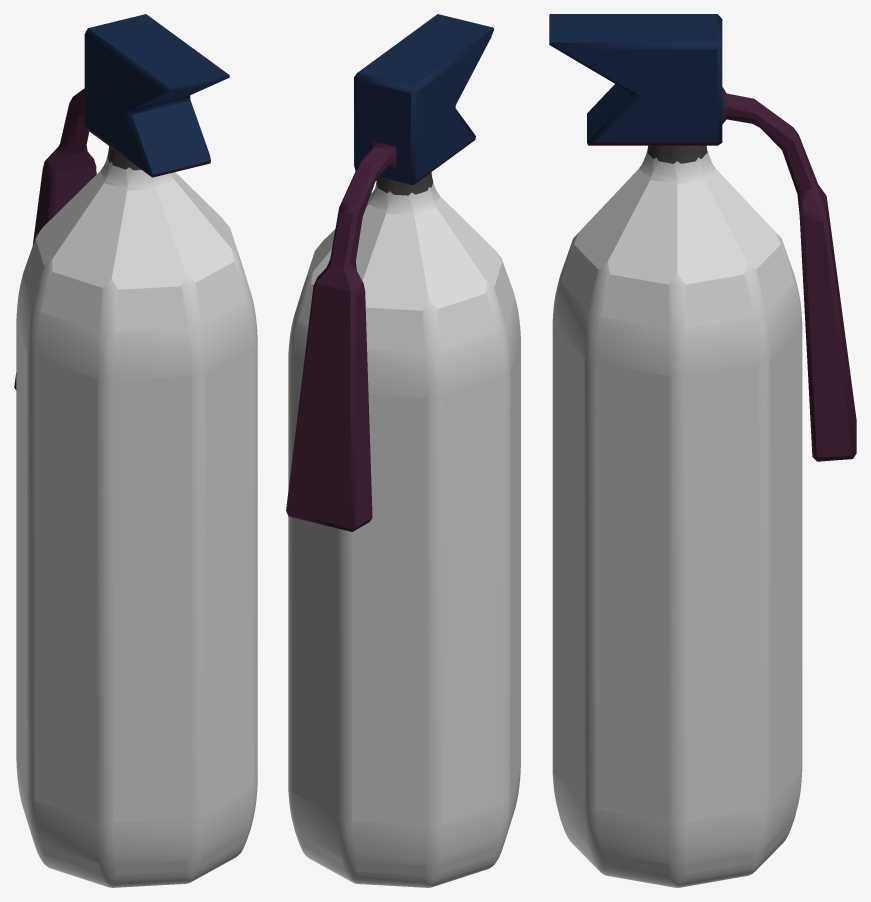
File: FireTankBevel.fbx
3 renders of one model, left to right at view 1: azimuth 30°, elevation 25°; view 2: azimuth 150°, elevation 25°; view 3: azimuth 270°, elevation 25°, orthographic. The views are drawn at different scales.
Parts seen in each view (by area): view 1: Cylinder, Cube; view 2: Cylinder, Cube; view 3: Cylinder, Cube.
Part boxes in pixels (left/top/right/bottom): Cylinder: left=16, top=146, right=257, bottom=887; Cube: left=14, top=14, right=229, bottom=390; Cylinder: left=288, top=172, right=520, bottom=887; Cube: left=286, top=14, right=493, bottom=531; Cylinder: left=552, top=145, right=802, bottom=887; Cube: left=549, top=14, right=856, bottom=461.
Bounding box in the file's own units: 98.81 × 357 × 122.
